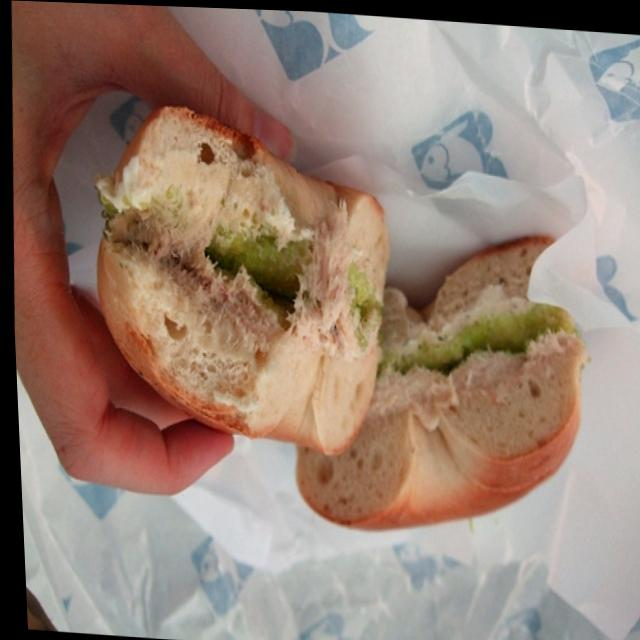面包点心: (52, 61, 613, 566)
